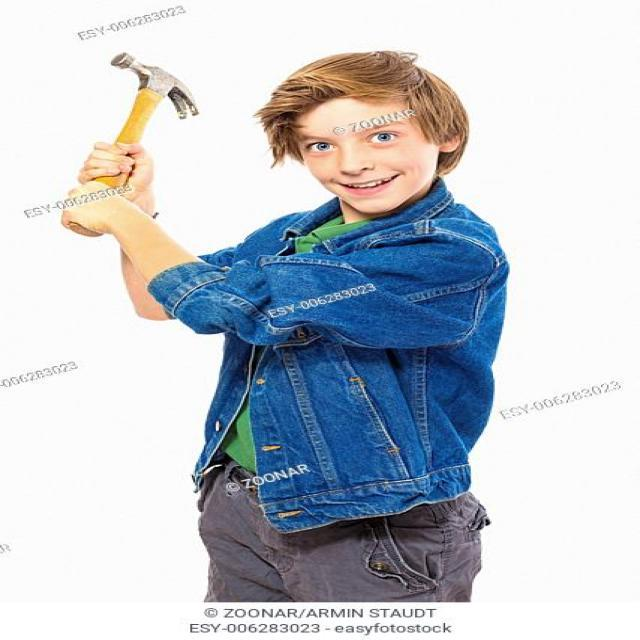hammer: (48, 32, 206, 246)
